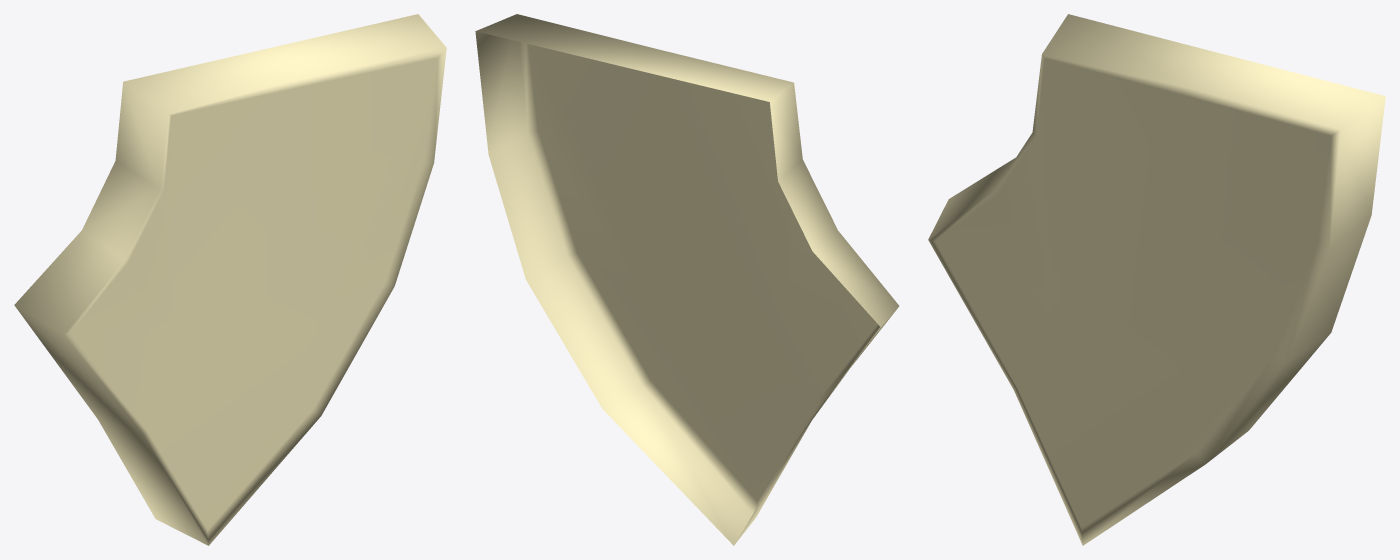
The model's file is ui_radialMenu_6_botRight.glb.
3 renders of one model, left to right at view 1: azimuth 30°, elevation 25°; view 2: azimuth 150°, elevation 25°; view 3: azimuth 330°, elevation 25°, orthographic. The views are drawn at different scales.
Parts seen in each view (by area): view 1: main6_botRight; view 2: main6_botRight; view 3: main6_botRight.
Boxes of the visible parts, box(x1,y1,x2,y2) form: main6_botRight: box(14, 14, 446, 545); main6_botRight: box(475, 14, 899, 545); main6_botRight: box(928, 14, 1385, 545).
Size of the model in its own units: 0.7984 by 0.8525 by 0.1314.
